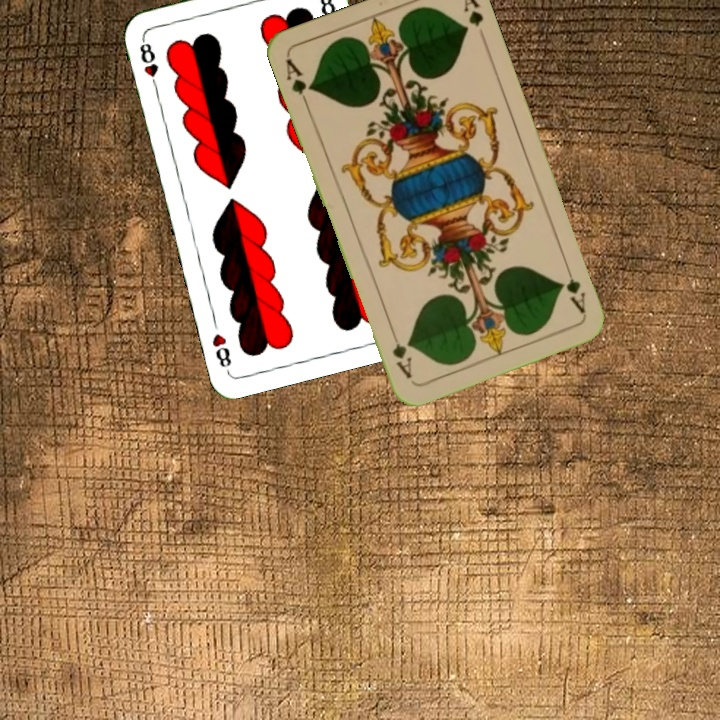GA: (282, 55, 316, 111), (556, 261, 589, 318)
H8: (135, 35, 161, 93)
